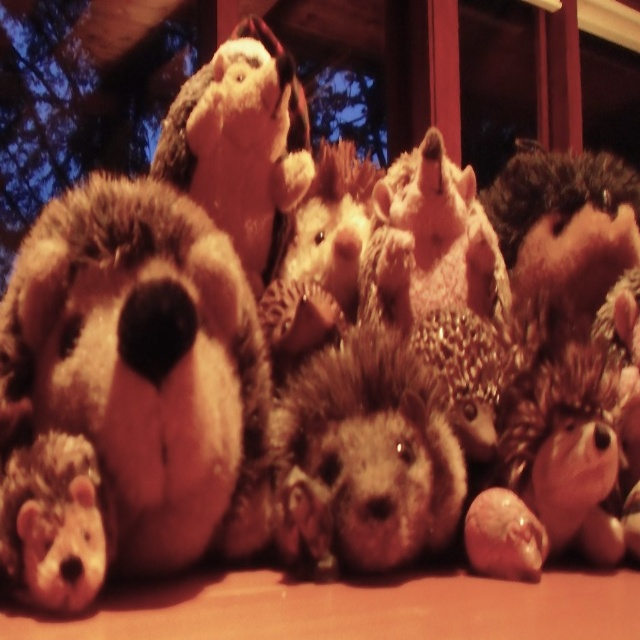Hedgehog: (0, 9, 640, 624)
